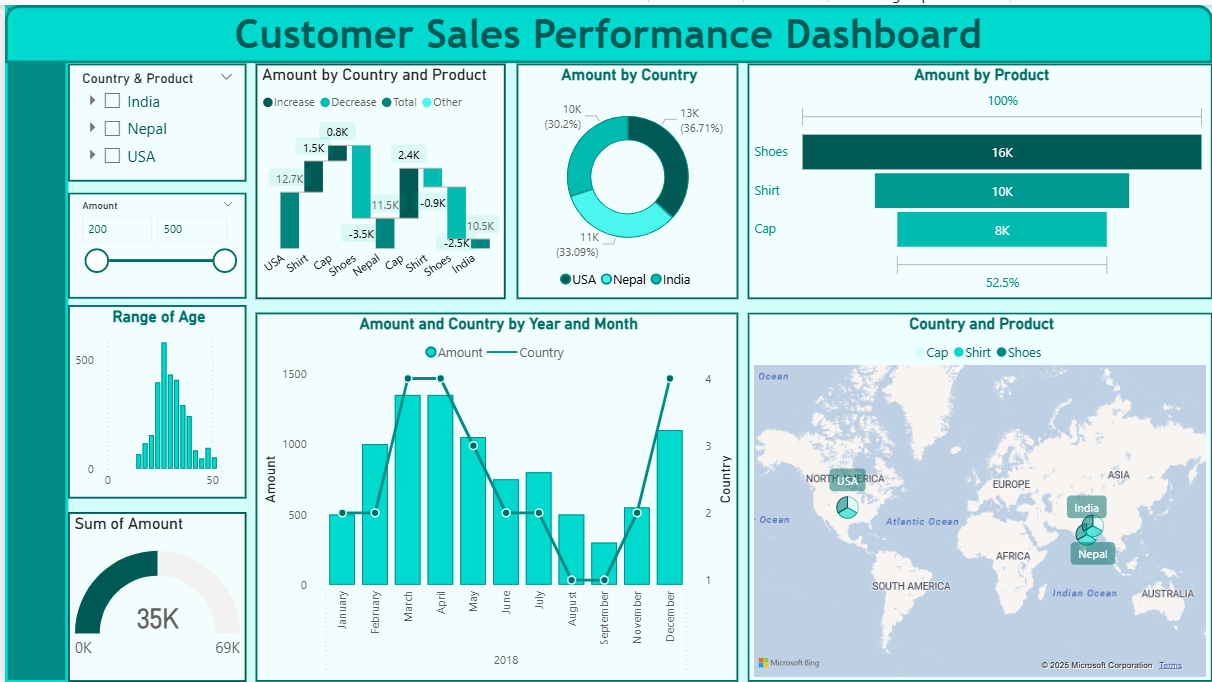

This screenshot's page, from the dashboard's own definition file:
{"tool":"powerbi","page":{"name":"Customer Sales Performance Dashboard","canvas":[1280,720],"ordinal":0},"visuals":[{"type":"lineStackedColumnComboChart","title":"Amount and Country by Year and Month","fields":{"Y":["Sum(Dataset. Amount)"],"Y2":["CountNonNull(Dataset. Country)"],"Category":["Dataset.Date.Variation.Date Hierarchy.Year","Dataset.Date.Variation.Date Hierarchy.Month"]},"box":[264.9,326.6,511.9,392.4],"z":0},{"type":"shape","box":[0,0,67,719],"z":1000},{"type":"shape","box":[0,0,1280.7,61.7],"z":2000},{"type":"map","fields":{"Category":["Dataset. Country"],"Series":["Dataset. Product"]},"box":[787.4,326.1,493.1,392.9],"z":3000},{"type":"funnel","title":"Amount by  Product","fields":{"Y":["Sum(Dataset. Amount)"],"Category":["Dataset. Product"]},"box":[787.4,62,493.1,249.7],"z":4000},{"type":"donutChart","title":"Amount by Country","fields":{"Y":["Sum(Dataset. Amount)"],"Category":["Dataset. Country"]},"box":[542.4,62,235.4,249.7],"z":5000},{"type":"waterfallChart","title":"Amount by Country and Product","fields":{"Category":["Dataset. Country"],"Y":["Sum(Dataset. Amount)"],"Breakdown":["Dataset. Product"]},"box":[265.6,62,265.6,249.7],"z":6000},{"type":"gauge","fields":{"Y":["Sum(Dataset. Amount)"]},"box":[66.8,537.6,189.3,181.3],"z":7000},{"type":"clusteredColumnChart","title":"Range of Age","fields":{"Category":["Dataset.Bin"],"Y":["Sum(Dataset. Age)"]},"box":[66.8,318.1,189.3,205.2],"z":8000},{"type":"slicer","fields":{"Values":["Dataset. Country","Dataset. Product"]},"box":[66.8,62,189.3,125.7],"z":9000},{"type":"slicer","fields":{"Values":["Dataset. Amount"]},"box":[66.8,198.8,189.3,112.9],"z":10000},{"type":"textbox","box":[0,0,1279.4,62.4],"z":11000}]}

Visuals, with their boxes in screenshot pixels (x1, y1, x2, y2), scaled from the page's 1280x720 canvas onto the 1212x682 screenshot:
"Amount and Country by Year and Month" lineStackedColumnComboChart: 251:309:736:681
shape: 0:0:63:681
shape: 0:0:1211:58
map - Dataset. Country x Dataset. Product: 746:309:1211:681
"Amount by  Product" funnel: 746:59:1211:295
"Amount by Country" donutChart: 514:59:736:295
"Amount by Country and Product" waterfallChart: 251:59:503:295
gauge - Sum(Dataset. Amount): 63:509:242:681
"Range of Age" clusteredColumnChart: 63:301:242:496
slicer - Dataset. Country x Dataset. Product: 63:59:242:178
slicer - Dataset. Amount: 63:188:242:295
textbox: 0:0:1211:59
